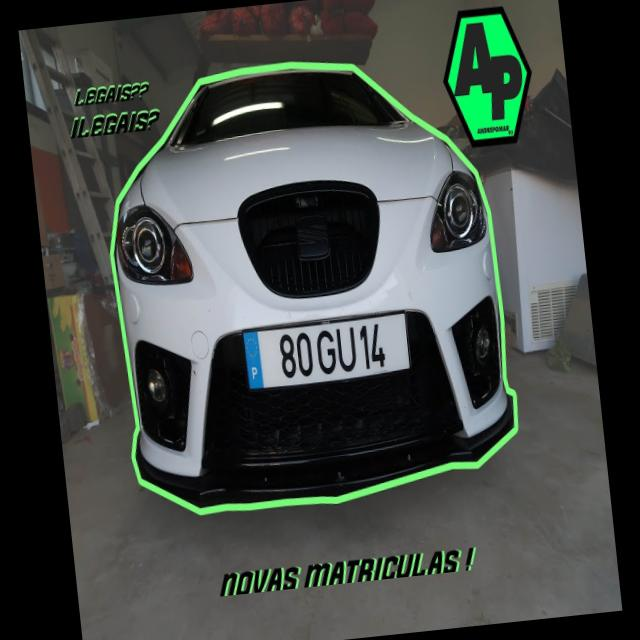portuguese-license-plates: (238, 308, 412, 391)
